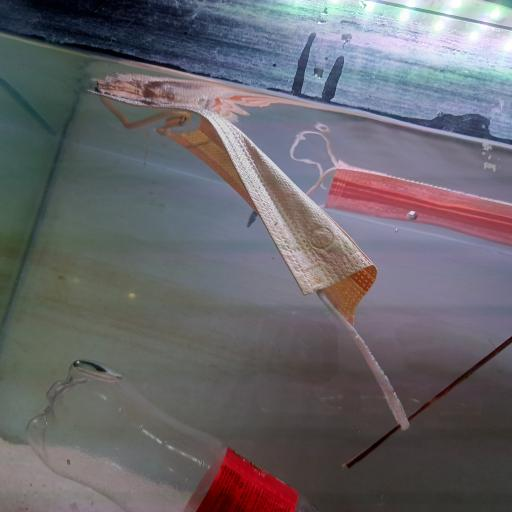mask: (98, 71, 432, 435), (288, 128, 512, 248)
plastic_bottle: (27, 351, 323, 512)
